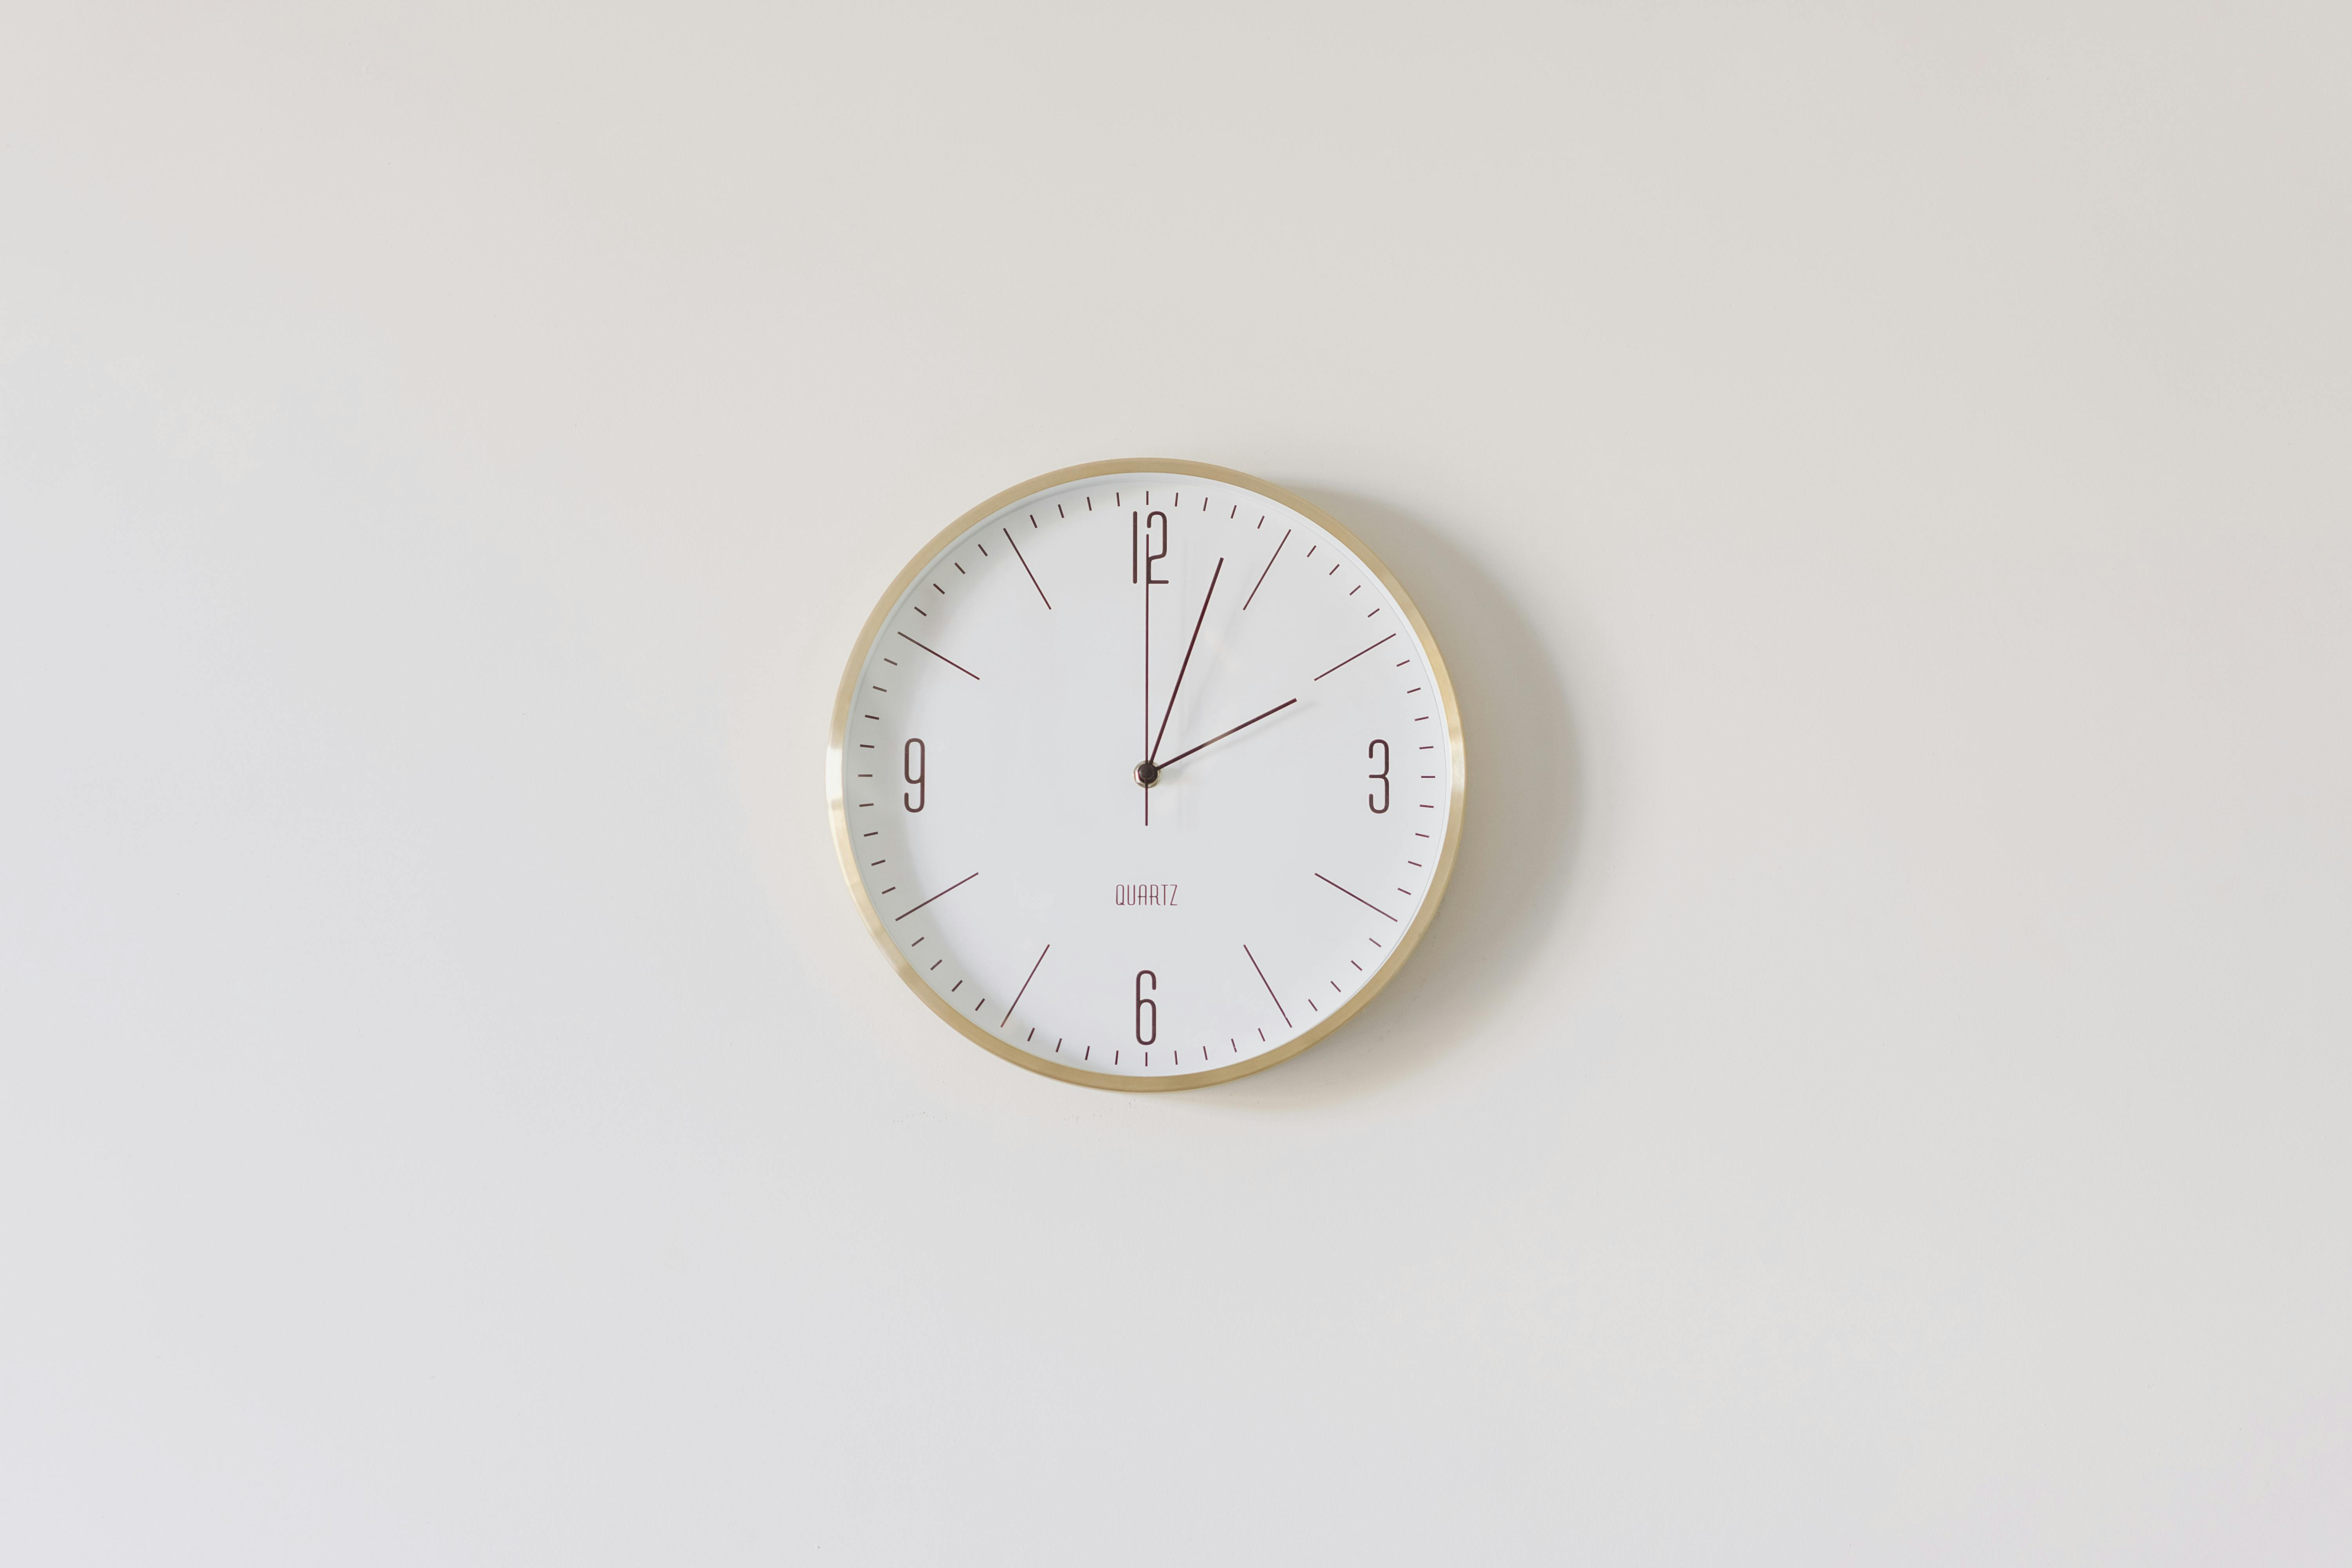clock: (681, 367, 1575, 1143)
